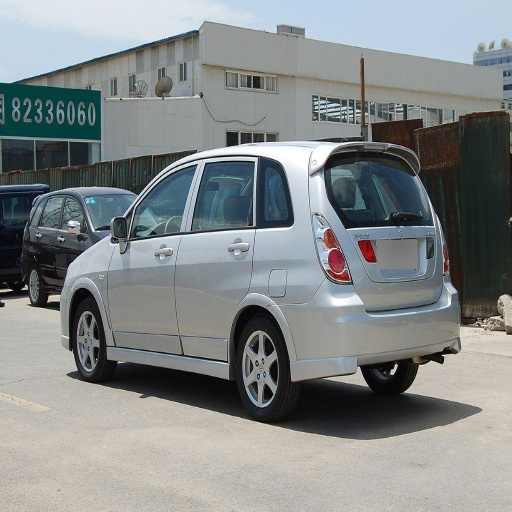back_bumper: (282, 280, 460, 380)
back_glass: (317, 153, 430, 225)
back_left_door: (175, 157, 265, 356)
back_left_light: (317, 226, 352, 282)
tailgate: (334, 215, 445, 304)
